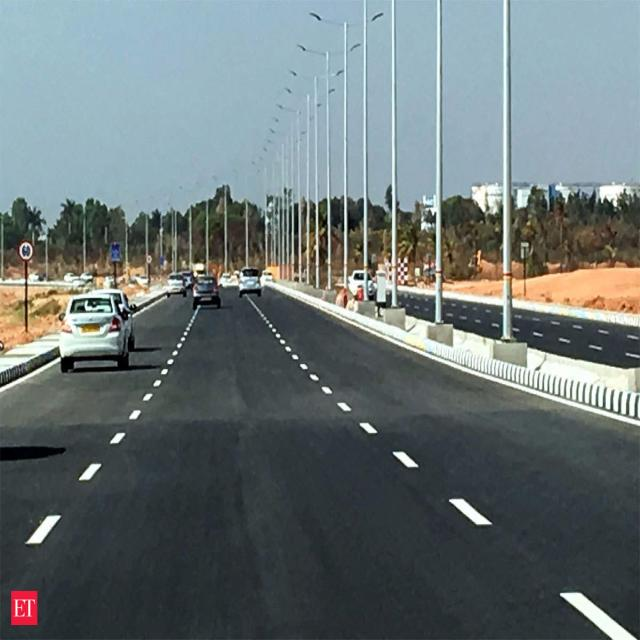Clean road: (0, 255, 640, 640)
